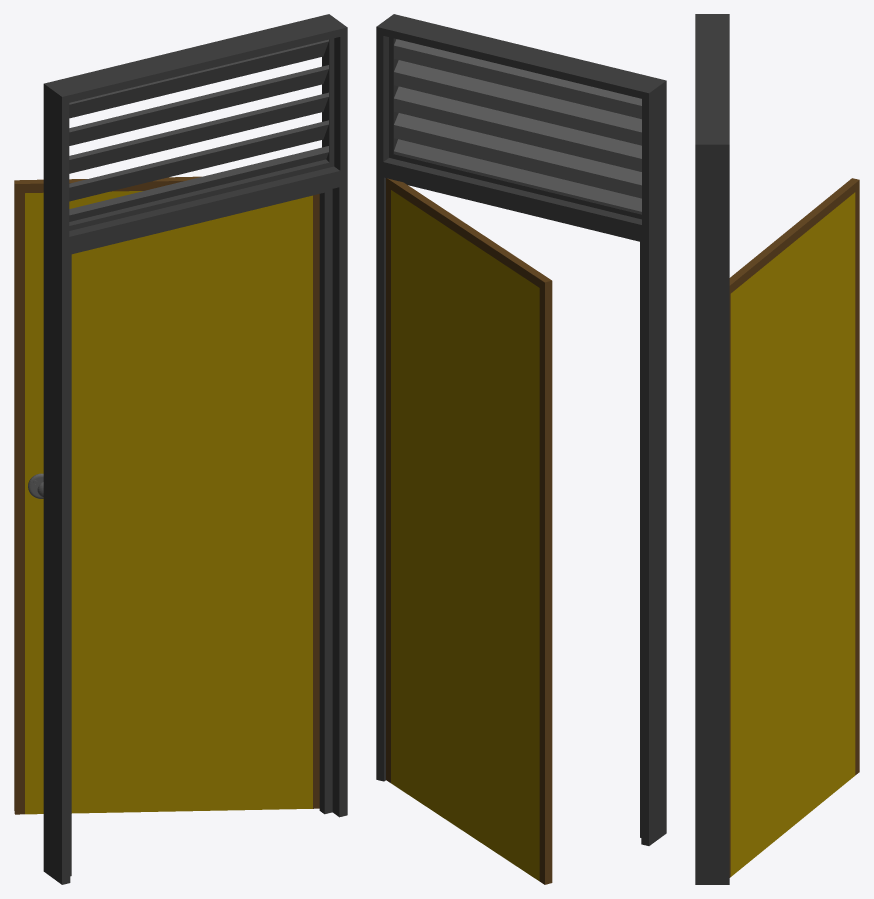
Rendered from PuertaPañol_NicolasT_47202506 (revisar).fbx.
3 renders of one model, left to right at view 1: azimuth 30°, elevation 25°; view 2: azimuth 150°, elevation 25°; view 3: azimuth 270°, elevation 25°, orthographic. The views are drawn at different scales.
Visible parts, largest first — view 1: PuertaYManija, MarcoYVentilación; view 2: PuertaYManija, MarcoYVentilación; view 3: PuertaYManija, MarcoYVentilación.
Boxes of the visible parts, box(x1,y1,x2,y2) form: PuertaYManija: box(14, 176, 319, 814); MarcoYVentilación: box(43, 14, 347, 884); PuertaYManija: box(386, 178, 552, 884); MarcoYVentilación: box(376, 14, 666, 845); PuertaYManija: box(729, 178, 859, 877); MarcoYVentilación: box(695, 14, 729, 884).
Bounding box in the file's own units: 180 × 475 × 95.64.
1 material, 1 textured.
